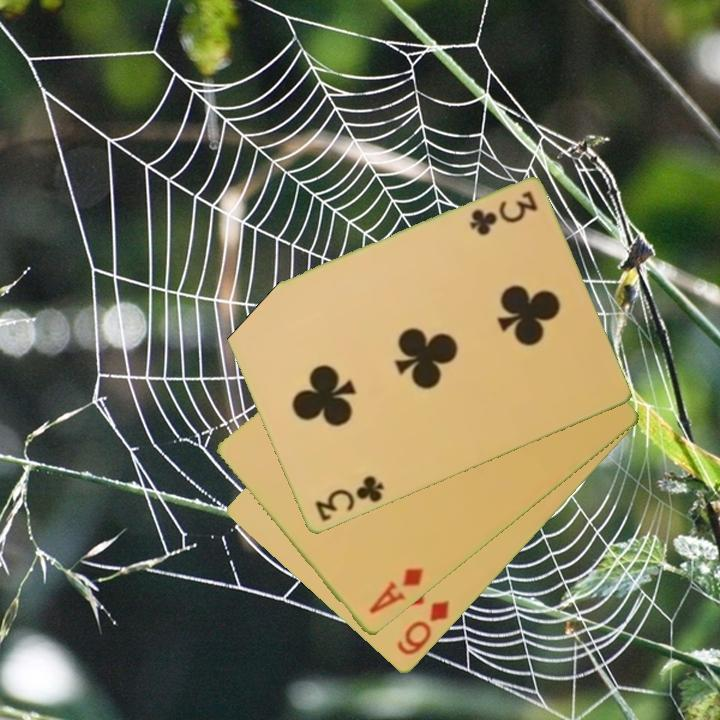3c: (311, 472, 387, 525), (465, 187, 540, 238)
6d: (393, 597, 453, 659)
Ad: (365, 564, 427, 618)
